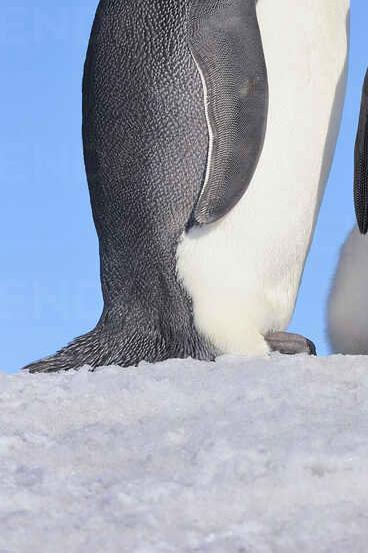Emperor Penguin: (48, 0, 358, 402), (334, 0, 368, 422)
